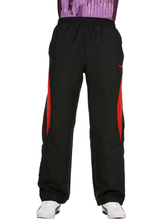clothoes: (35, 16, 133, 202)
shoes: (32, 199, 65, 222), (94, 201, 131, 220)
